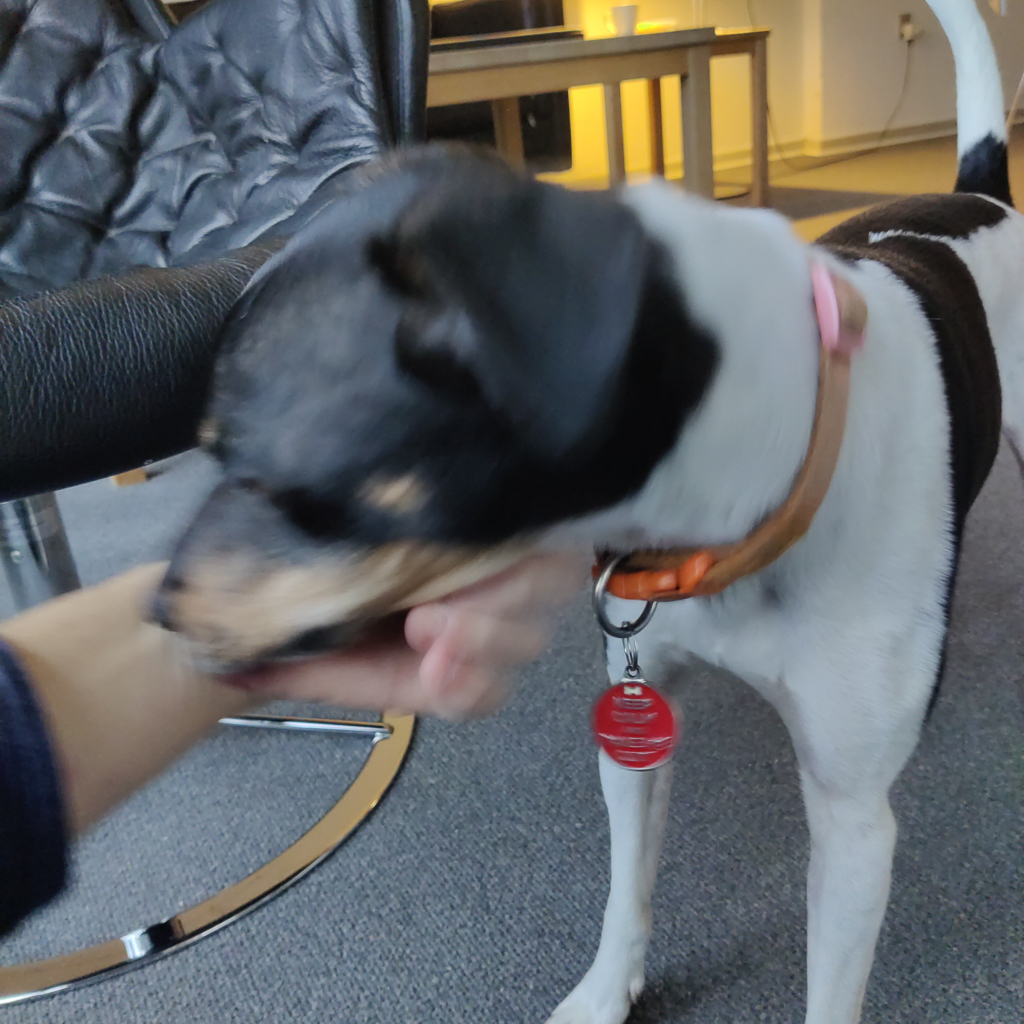Dog: (132, 0, 1024, 1024)
Humanoid: (0, 472, 605, 947)
